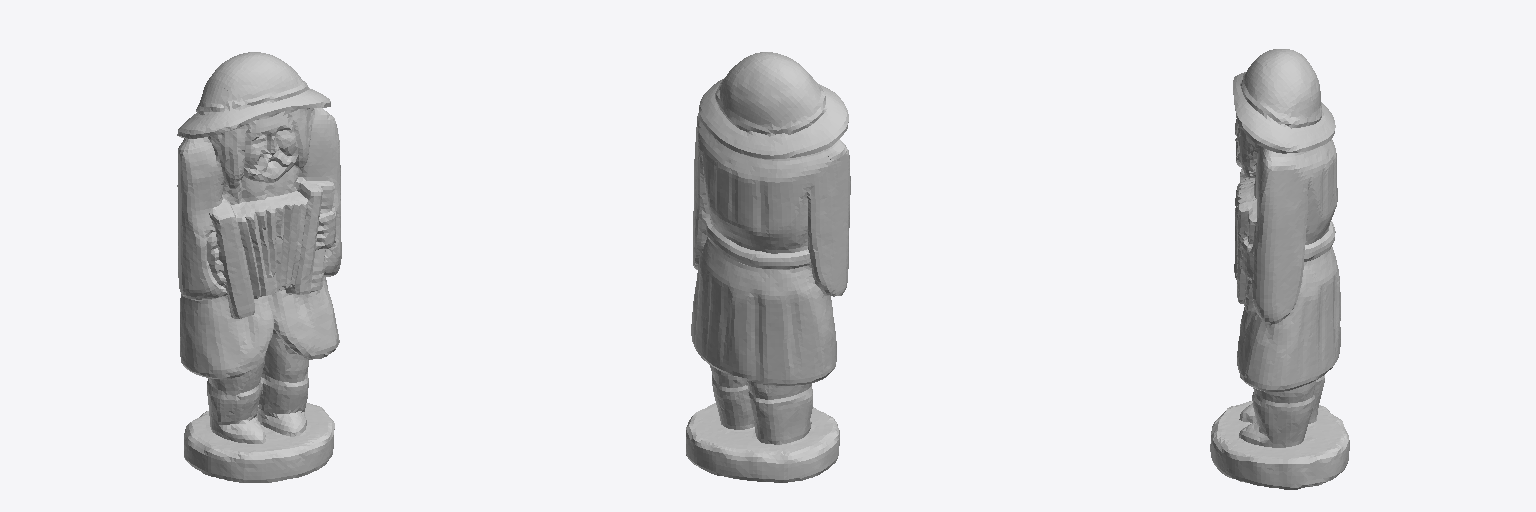
The model's file is Hojda20.obj.
The picture shows the model from 3 angles: view 1: azimuth 30°, elevation 25°; view 2: azimuth 150°, elevation 25°; view 3: azimuth 270°, elevation 25°; orthographic projection.
Parts seen in each view (by area): view 1: Hojda20_lowpoly; view 2: Hojda20_lowpoly; view 3: Hojda20_lowpoly.
Boxes of the visible parts, x1,y1,x2,y2 form: Hojda20_lowpoly: [177, 52, 341, 482]; Hojda20_lowpoly: [686, 52, 850, 482]; Hojda20_lowpoly: [1210, 49, 1349, 489].
Bounding box in the file's own units: 0.1169 × 0.2892 × 0.0907.